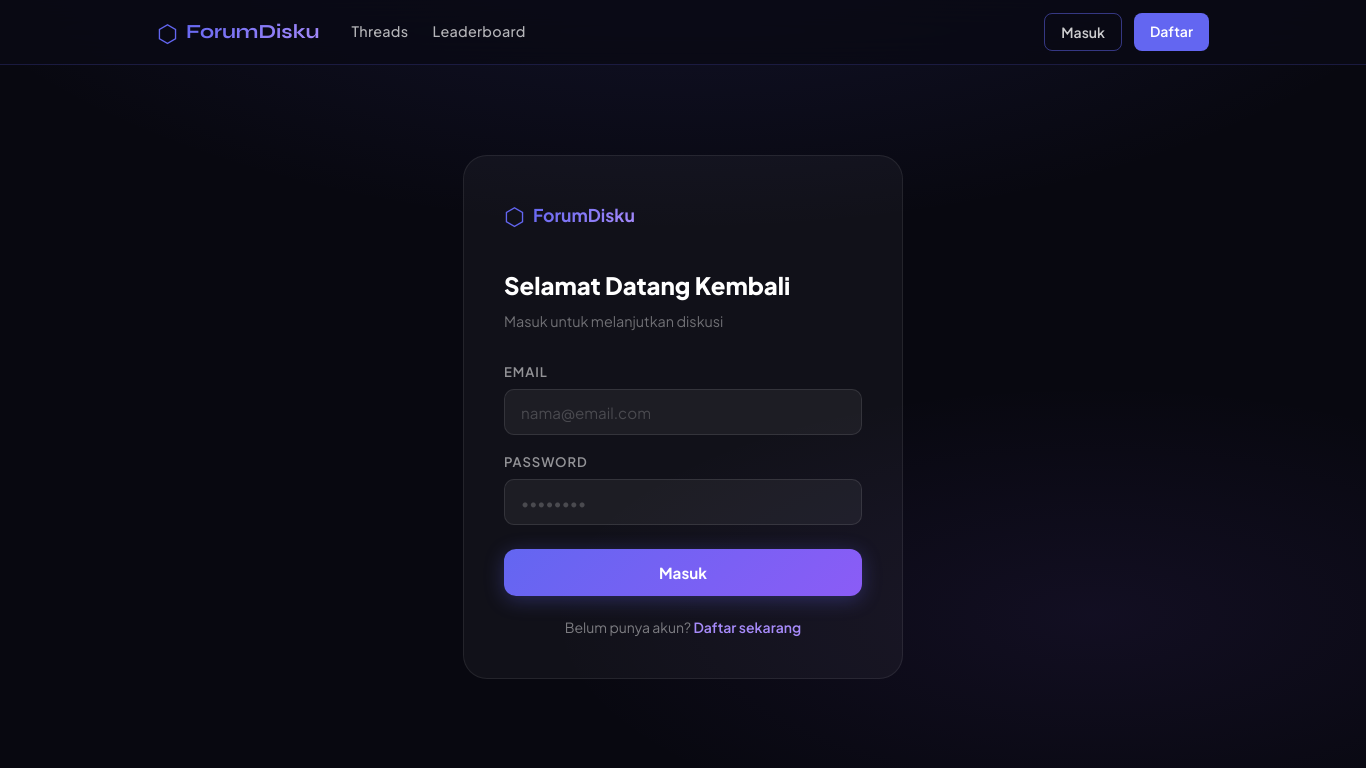
Login Flow › should show error message on invalid credentials
The width and height of the screenshot is (1366, 768).
Type "invalid@email.com" into the field with id "login-email".
click(683, 413); type("invalid@email.com")  # box [504, 389, 862, 436]
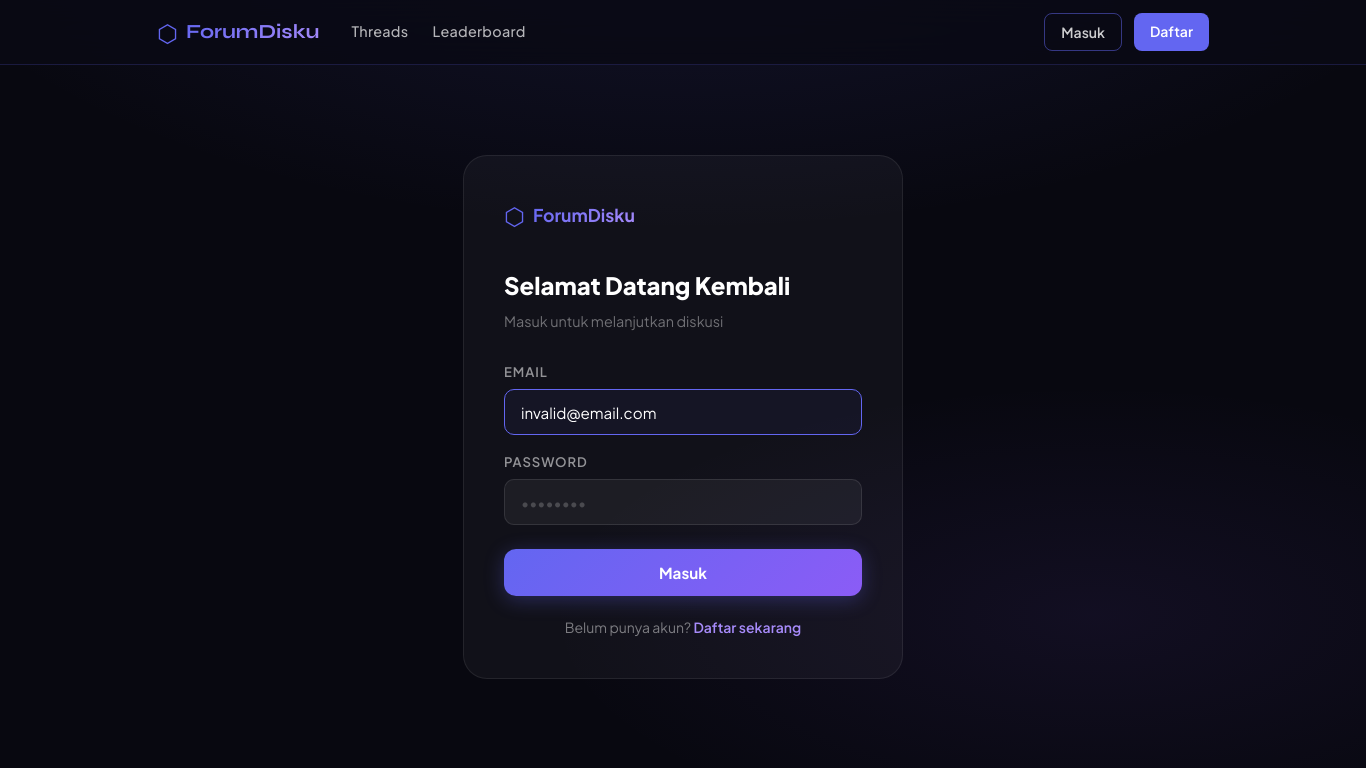
Type "wrongpassword" into the password field with id "login-password".
click(683, 503); type("wrongpassword")  # box [504, 479, 862, 526]
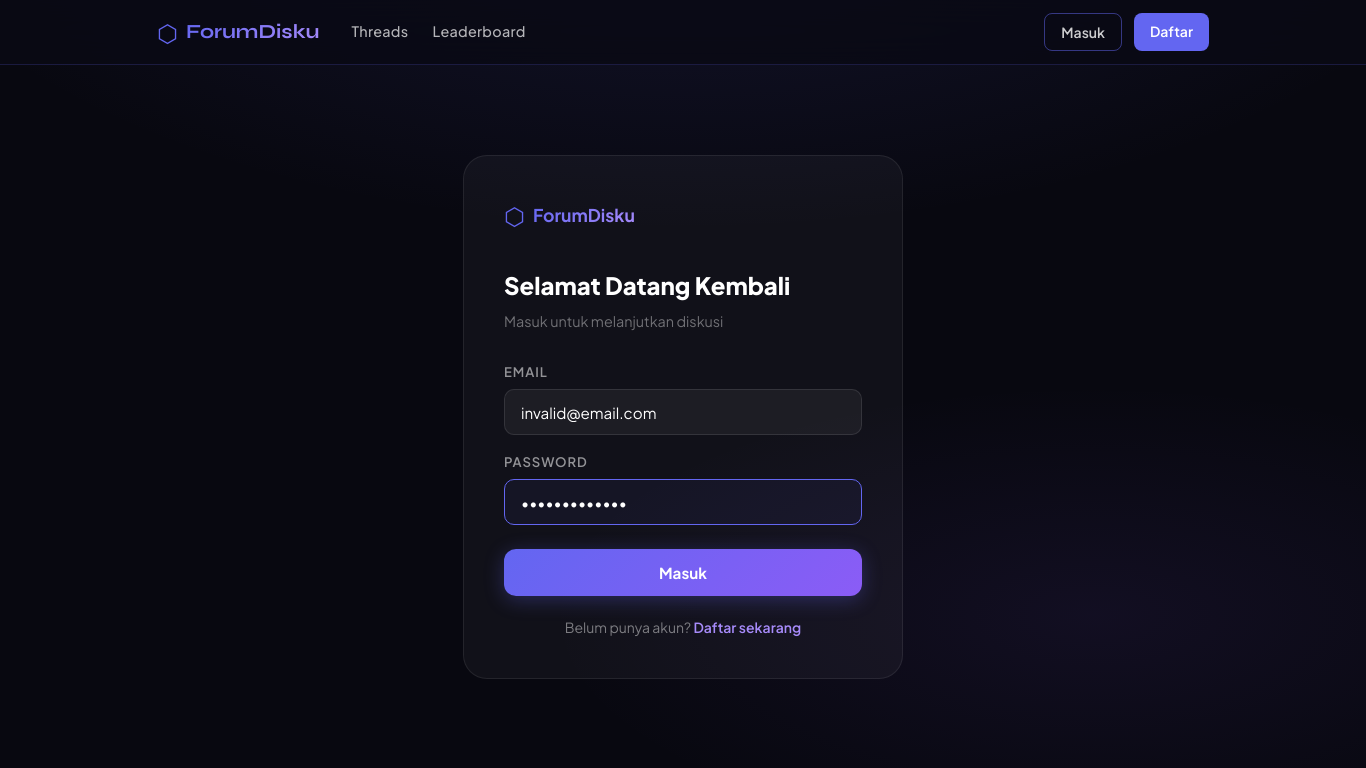
Click the submit button.
click(683, 572)  # box [504, 549, 862, 595]
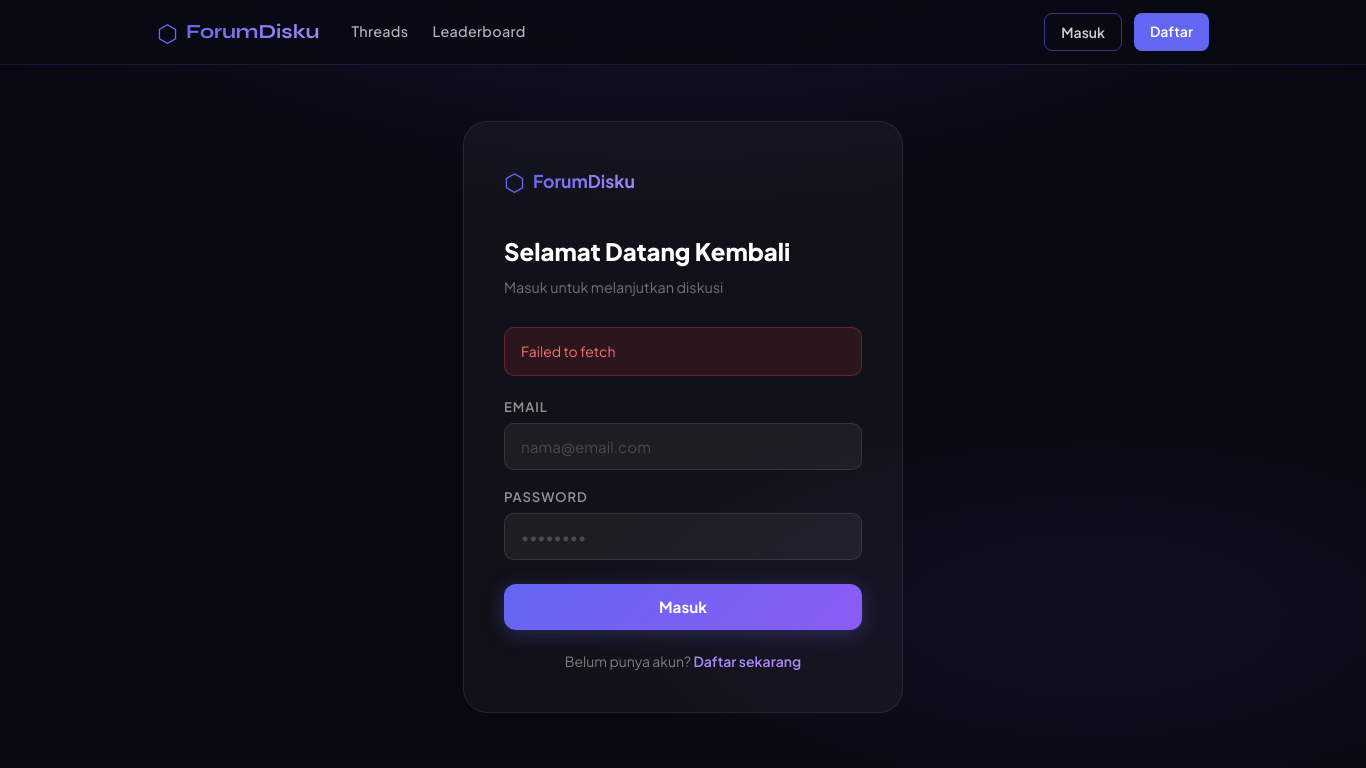
Check: the text with class "auth-card__error" is shown, box [504, 327, 862, 375]
